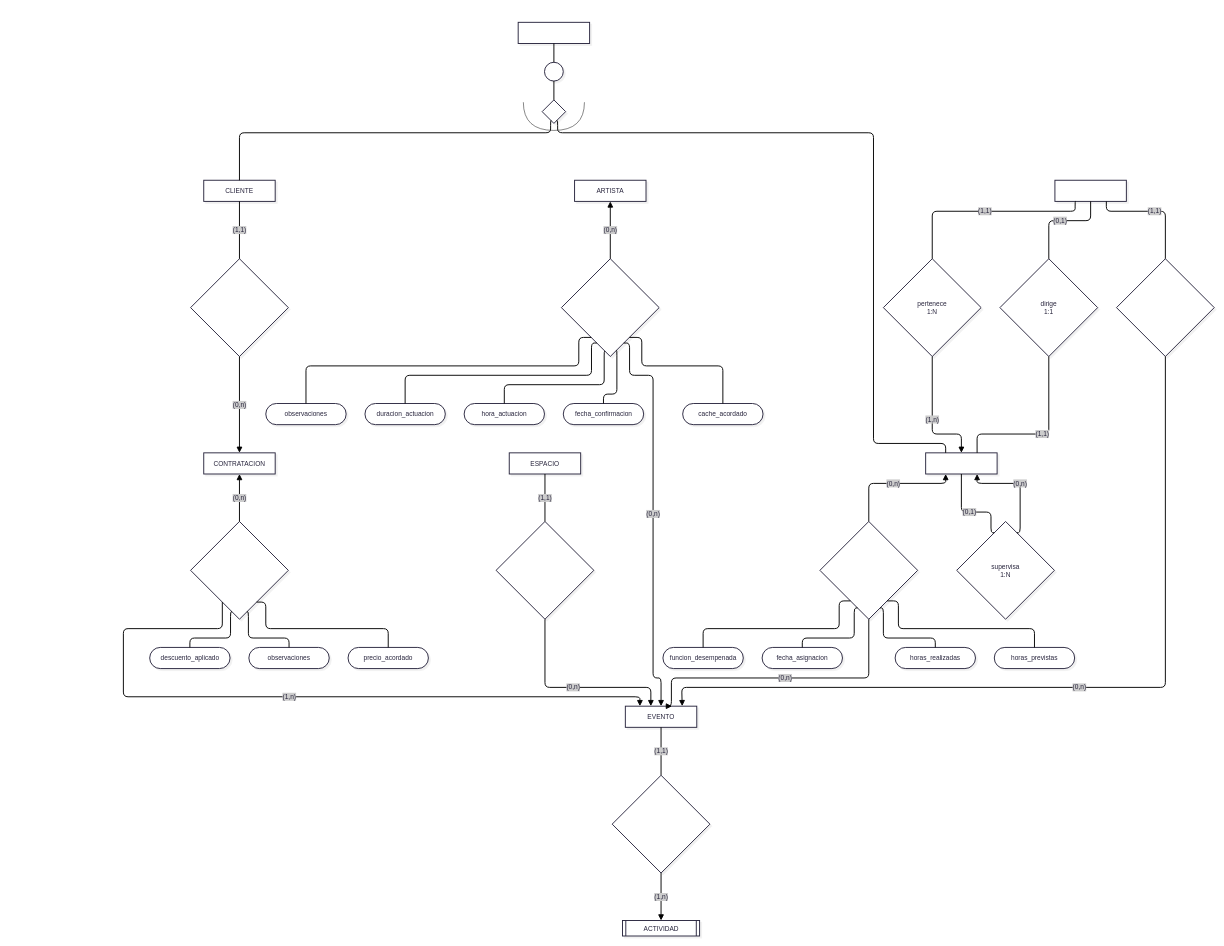
This 1224x946 diagram has some shape labels left out. Each missing label, with the centre of its shape:
alberga 1:N: (545,571)
asignado a M:N: (869,571)
DEPARTAMENTO: (1091,192)
E compuesto por 1:N: (661,825)
EMPLEADO: (962,464)
incluye M:N: (240,571)
organiza 1:N: (1166,308)
participa M:N: (611,308)
PERSONA: (554,34)
realiza 1:N: (240,308)
